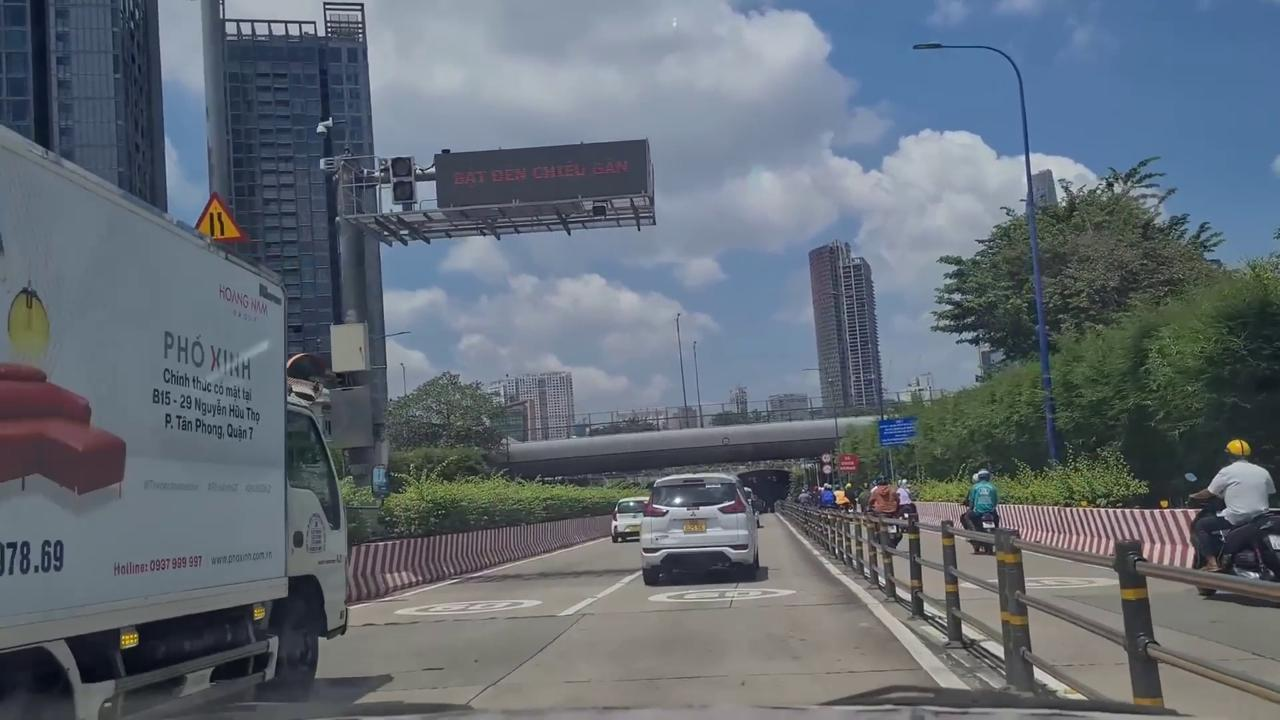Đuờng hẹp: (187, 191, 248, 245)
